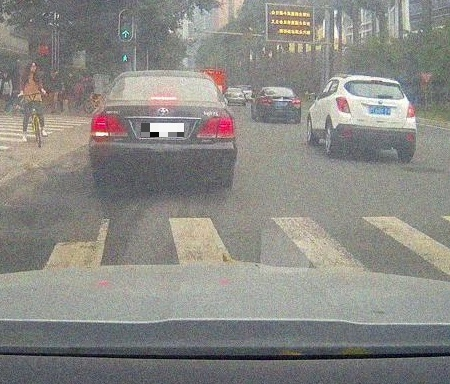L_light: (89, 116, 127, 137), (336, 97, 351, 113), (262, 97, 272, 104)
R_light: (197, 116, 235, 138), (405, 101, 415, 118), (291, 97, 300, 103)
T_light: (150, 95, 178, 102), (369, 80, 382, 85), (274, 88, 282, 91)
day-brake: (89, 70, 237, 188)
day-no: (335, 75, 417, 161), (262, 87, 302, 123)
plate_1: (141, 123, 184, 137)
